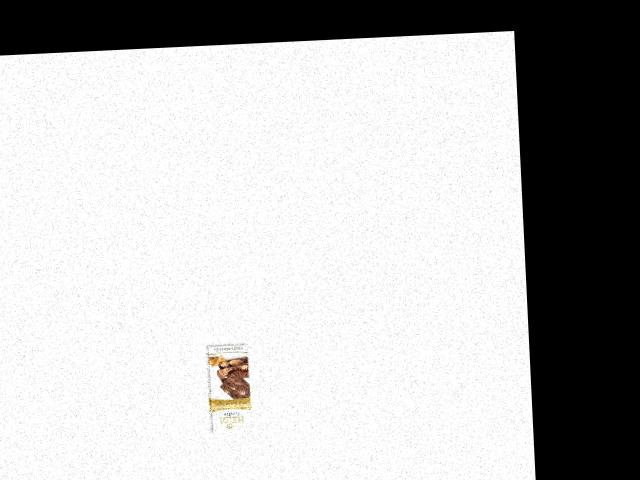chocolate: (198, 343, 261, 439)
